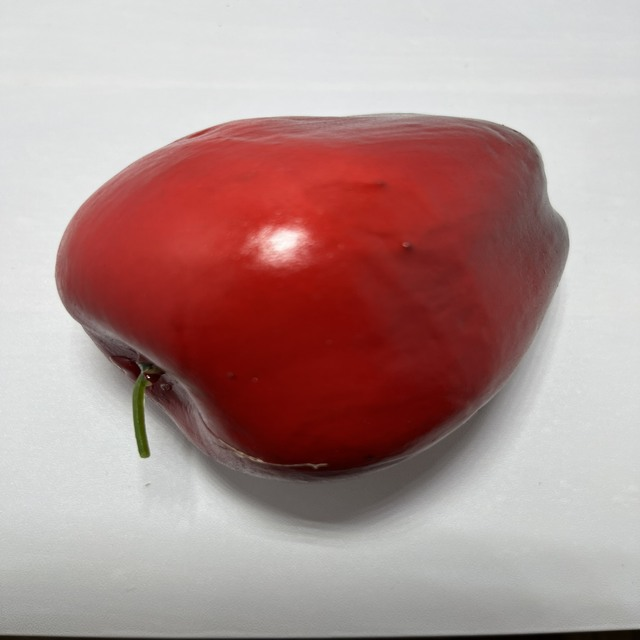Tao: (49, 101, 573, 492)
